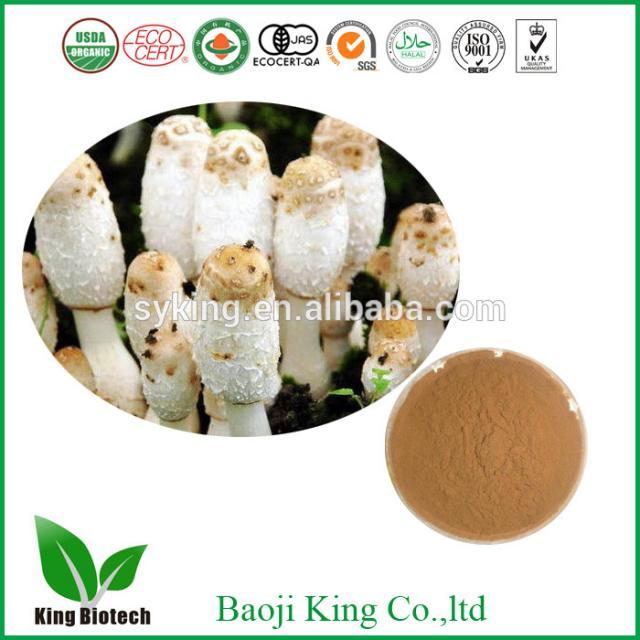Coprinus comatus: (36, 162, 133, 404), (273, 150, 344, 389), (194, 244, 282, 433), (124, 247, 205, 424), (303, 122, 385, 278), (184, 127, 274, 269), (142, 118, 208, 259), (397, 202, 455, 350), (359, 317, 421, 391)
